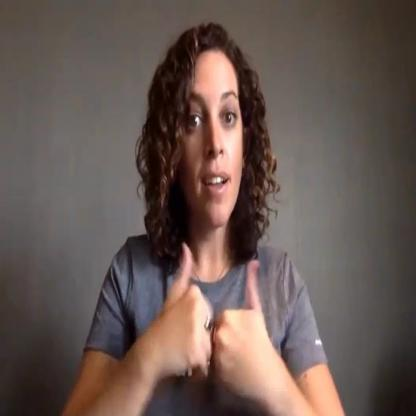HowAreYou: (139, 234, 280, 406)
